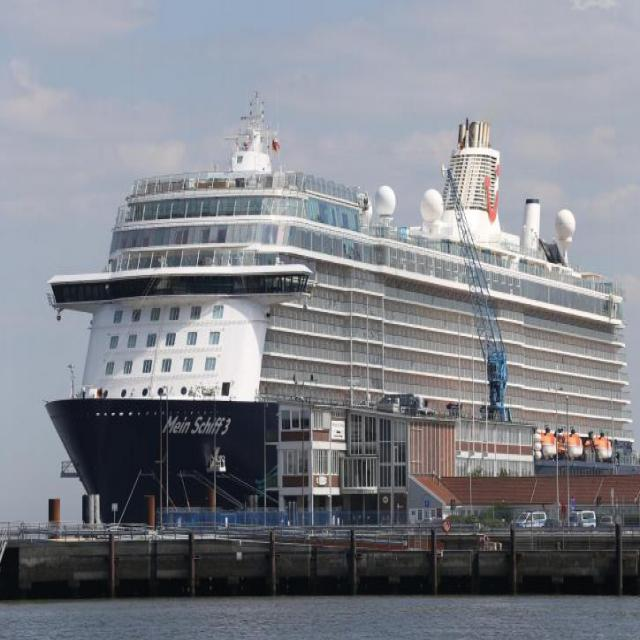cruises: (40, 87, 640, 544)
